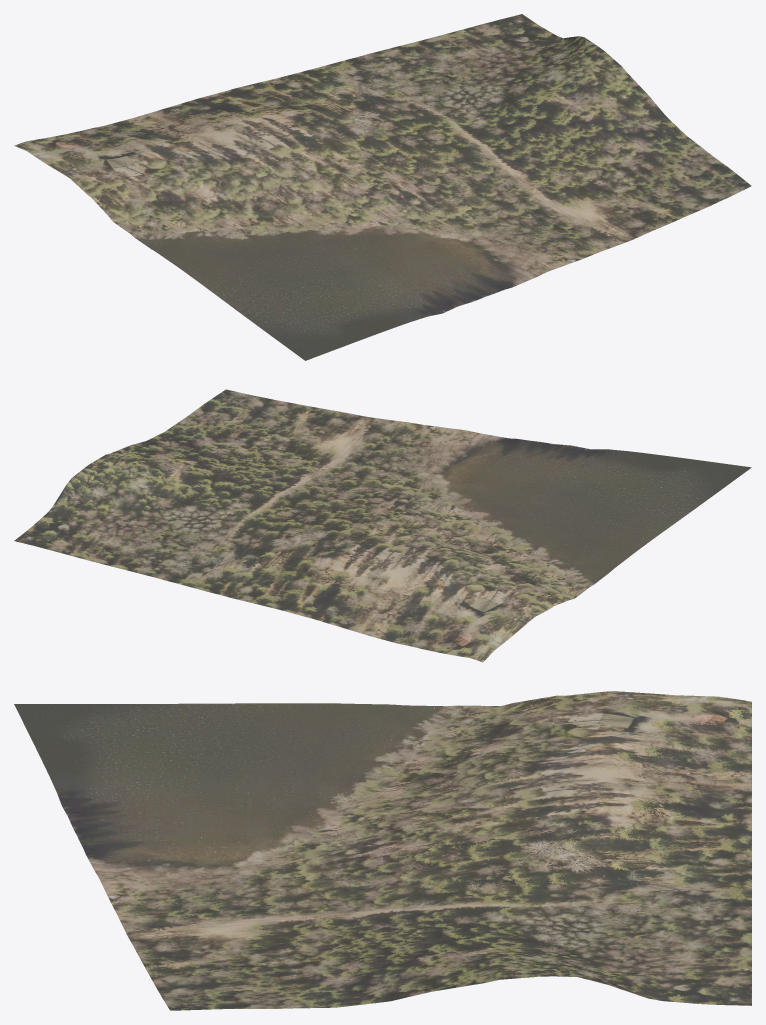
The model's file is CM_Terrain_24492711_6813650.fbx.
The picture shows the model from 3 angles, top to bottom: view 1: azimuth 30°, elevation 25°; view 2: azimuth 150°, elevation 25°; view 3: azimuth 270°, elevation 25°; orthographic projection. The views are drawn at different scales.
Parts seen in each view (by area): view 1: CM_Terrain_24492711_6813650_LOD0; view 2: CM_Terrain_24492711_6813650_LOD0; view 3: CM_Terrain_24492711_6813650_LOD0.
Boxes of the visible parts, x1,y1,x2,y2 form: CM_Terrain_24492711_6813650_LOD0: (14,14,751,360); CM_Terrain_24492711_6813650_LOD0: (14,389,751,662); CM_Terrain_24492711_6813650_LOD0: (14,691,751,1010).
Size of what is drawn, in the model's own units: 205 by 14.77 by 203.
